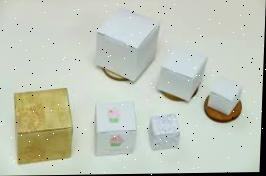cube: (93, 11, 159, 83), (14, 89, 74, 164), (92, 100, 139, 156), (206, 80, 245, 115), (148, 115, 183, 151)
